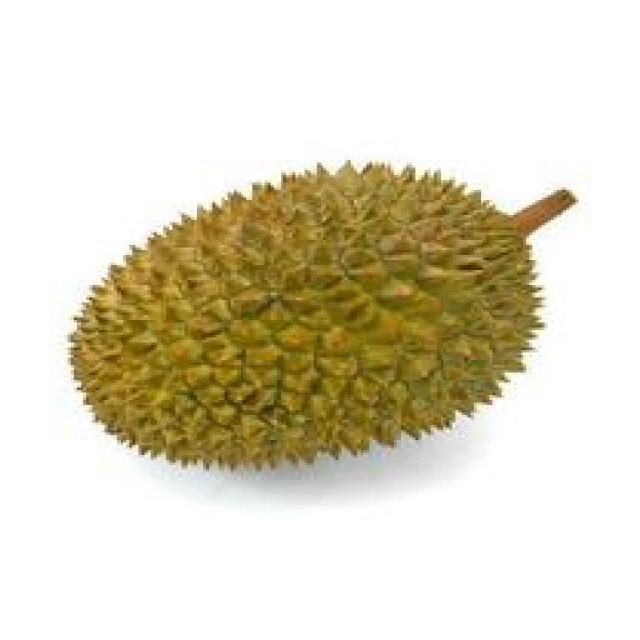fruit: (210, 128, 578, 530), (37, 150, 391, 530)
